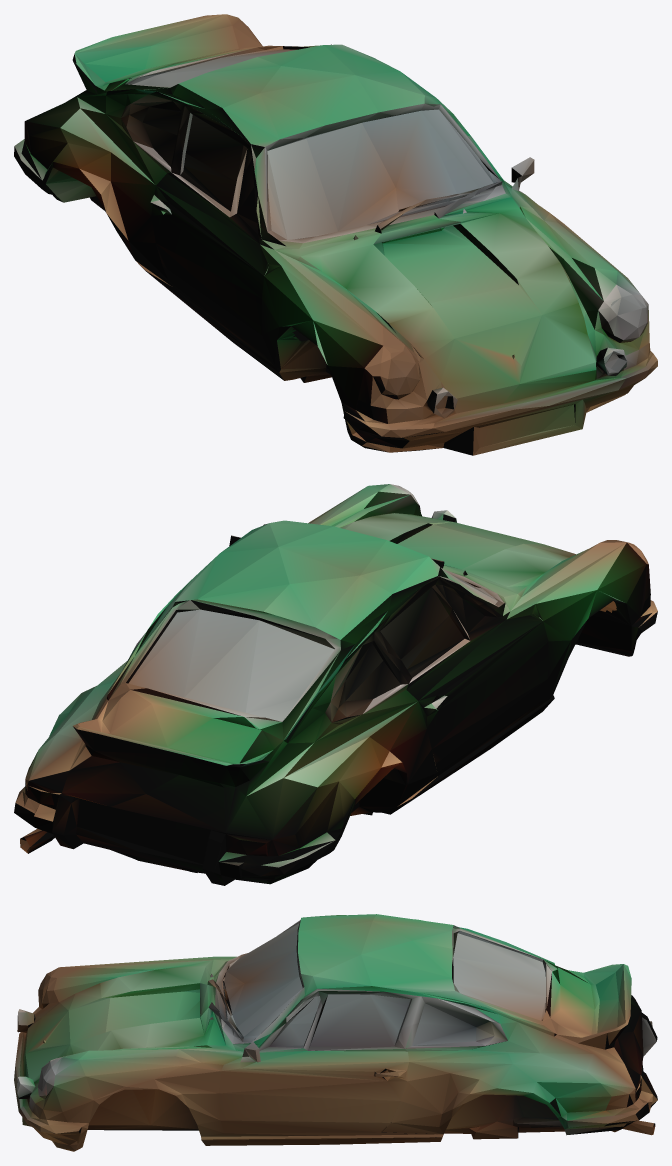
Rendered from porsche_911_1973.glb.
3 renders of one model, top to bottom at view 1: azimuth 30°, elevation 25°; view 2: azimuth 150°, elevation 25°; view 3: azimuth 270°, elevation 25°, orthographic. The views are drawn at different scales.
Visible parts, largest first — view 1: Wreck_porsche_911_1973; view 2: Wreck_porsche_911_1973; view 3: Wreck_porsche_911_1973.
Boxes of the visible parts, x1,y1,x2,y2 form: Wreck_porsche_911_1973: (14,14,657,455); Wreck_porsche_911_1973: (14,484,657,885); Wreck_porsche_911_1973: (14,914,657,1151).
Size of the model in its own units: 1.82 by 1.21 by 4.16.
